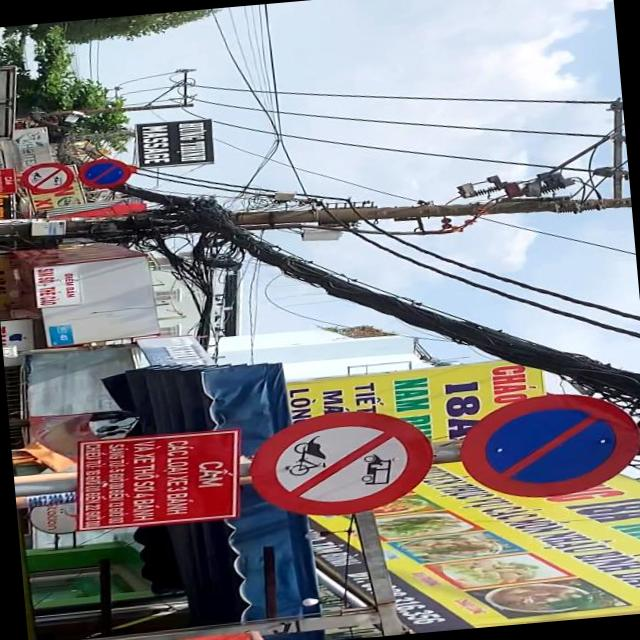P-131a: (457, 385, 640, 501)
